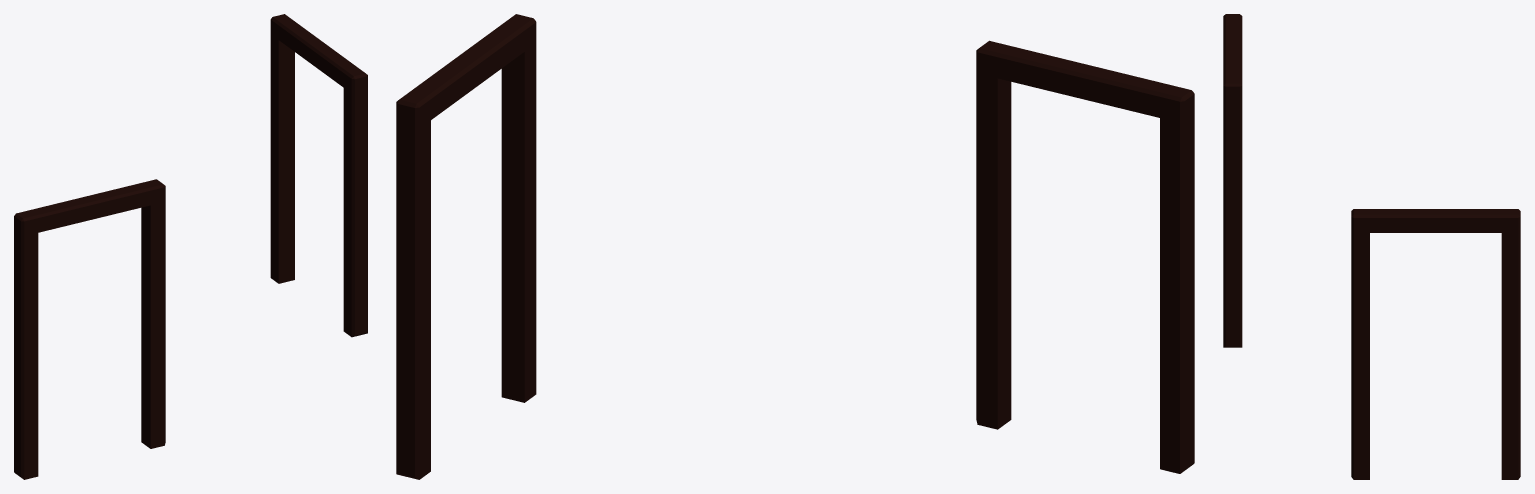
Rendered from door_frames.obj.
3 renders of one model, left to right at view 1: azimuth 30°, elevation 25°; view 2: azimuth 150°, elevation 25°; view 3: azimuth 270°, elevation 25°, orthographic. The views are drawn at different scales.
Visible parts, largest first — view 1: frame; view 2: frame; view 3: frame.
Boxes of the visible parts, x1,y1,x2,y2 form: frame: (14,14,367,479); frame: (396,14,1194,479); frame: (1223,14,1520,479).
Bounding box in the file's own units: 0.6584 × 0.4 × 0.4077.
